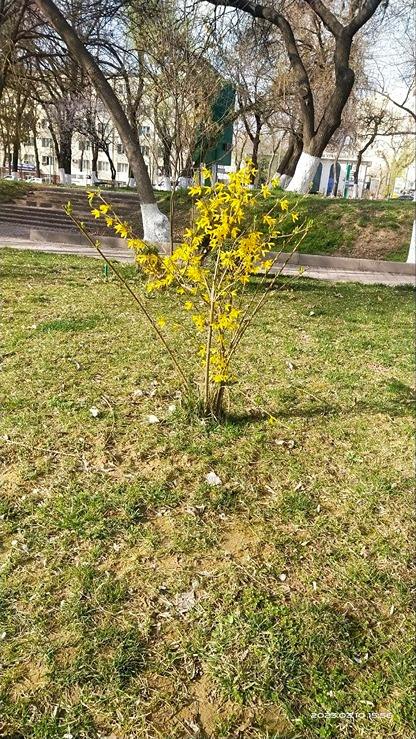car: (76, 161, 313, 416)
tree: (27, 0, 188, 235), (223, 0, 375, 188)
